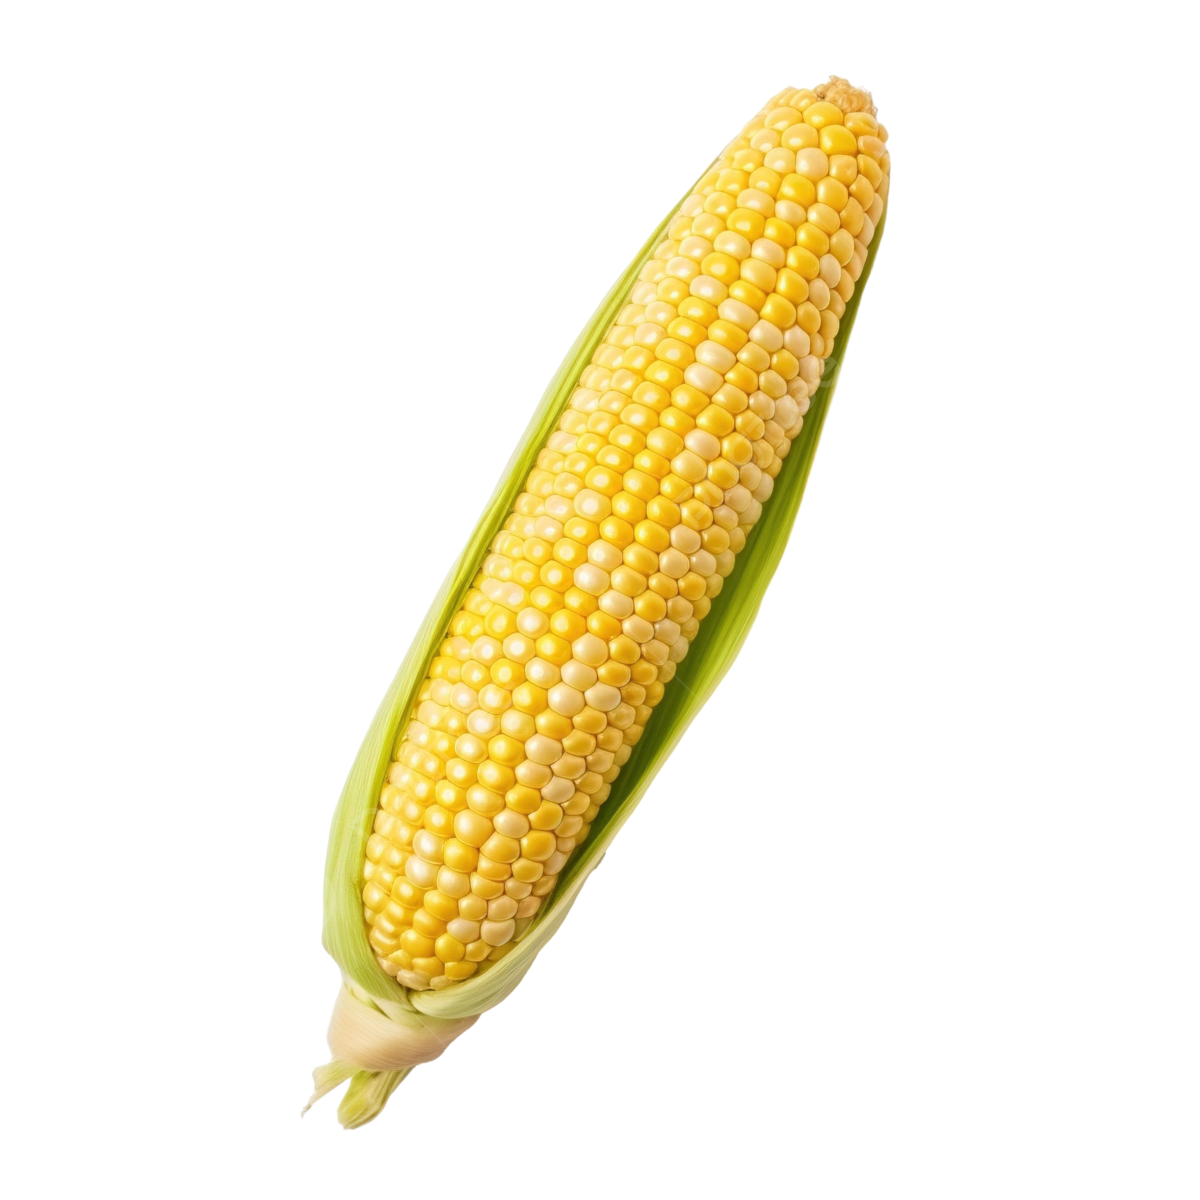corn: (316, 35, 949, 1138)
